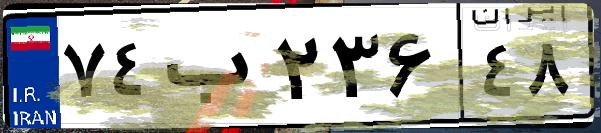2: (270, 28, 330, 110)
3: (330, 28, 385, 110)
4: (475, 38, 525, 113), (110, 28, 158, 98)
6: (385, 28, 445, 110)
7: (57, 26, 110, 100)
8: (525, 38, 570, 115)
ب: (158, 20, 270, 120)
